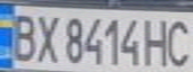1: (103, 15, 124, 66)
4: (118, 15, 145, 67), (81, 14, 106, 65)
8: (60, 12, 84, 65)
B: (6, 9, 42, 63)
C: (163, 15, 193, 67)
H: (142, 15, 172, 67)
X: (30, 10, 63, 63)
